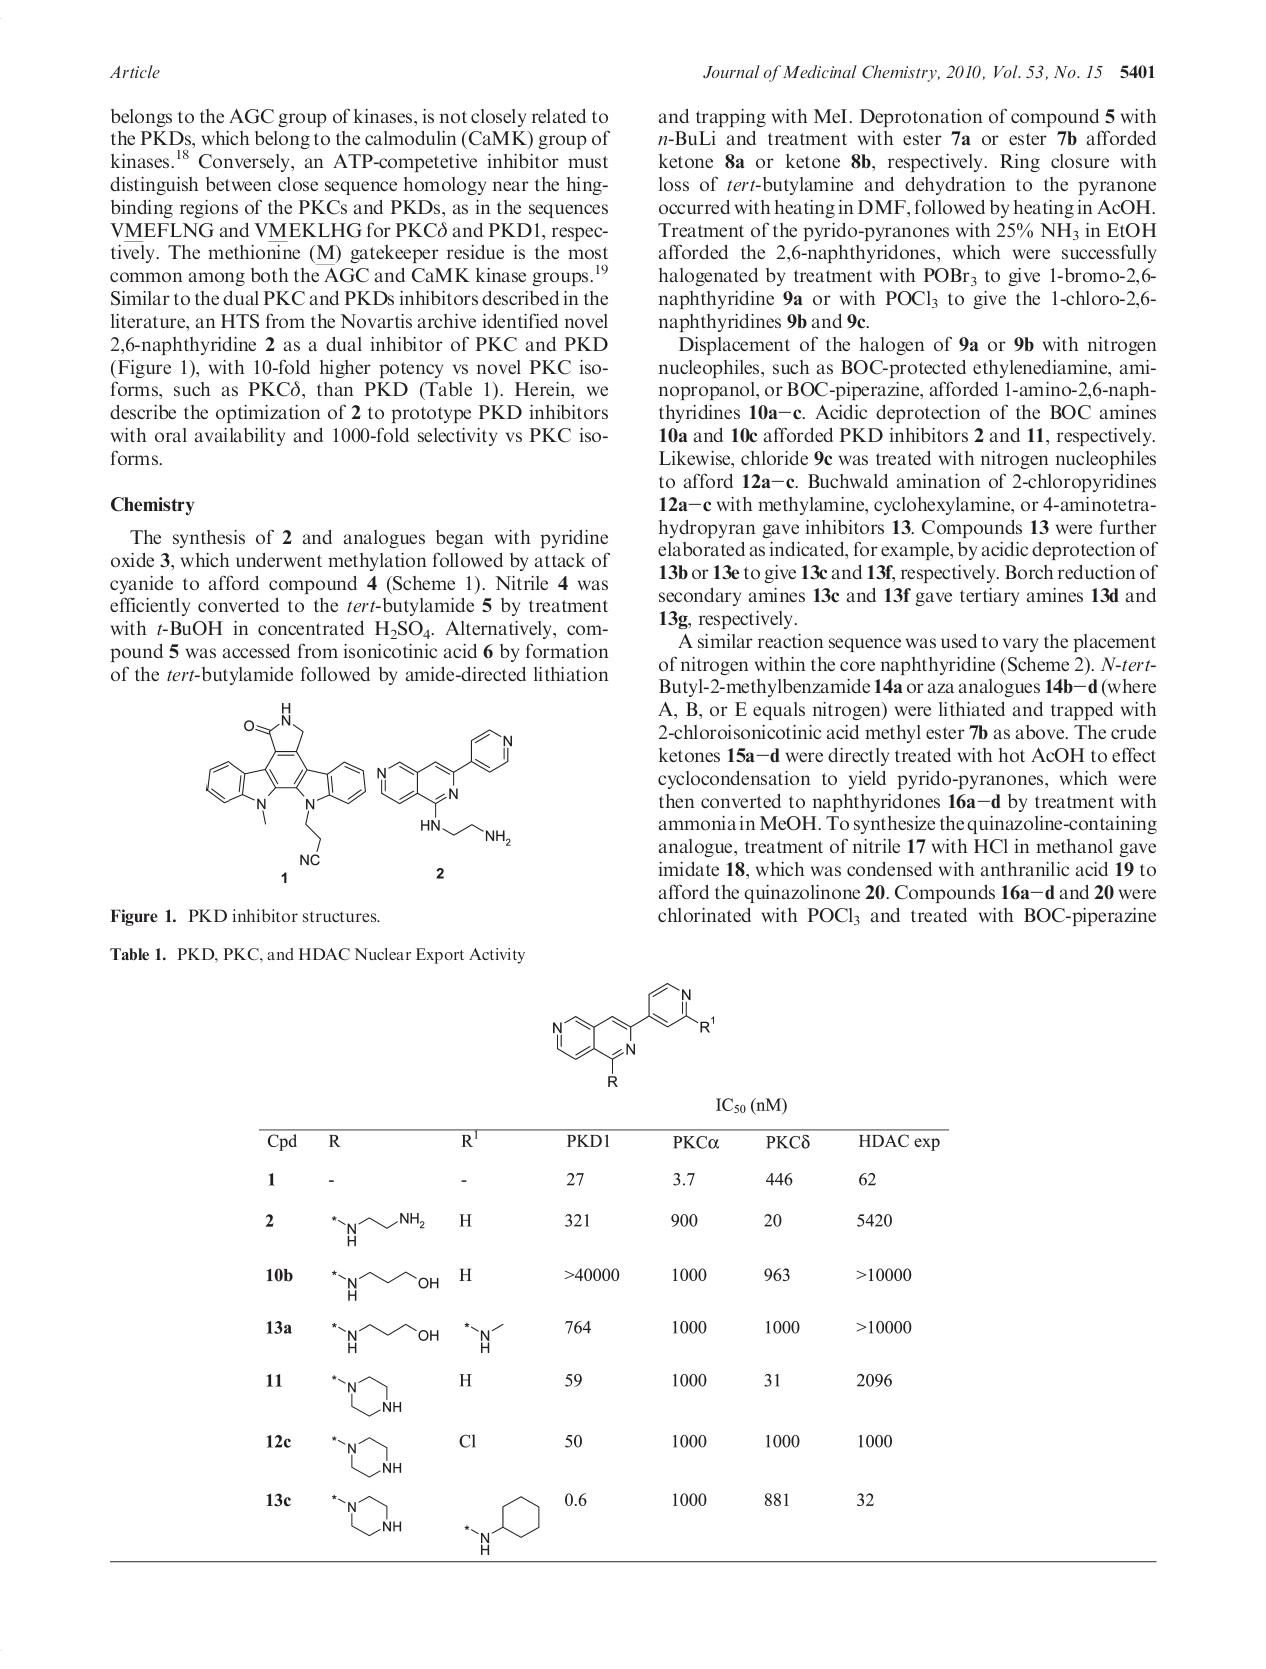exist_molecular: (201, 698, 519, 871), (547, 973, 719, 1091), (324, 1313, 444, 1362), (459, 1492, 547, 1559), (320, 1213, 431, 1258), (327, 1371, 412, 1428), (324, 1263, 445, 1302), (331, 1424, 406, 1485), (328, 1492, 404, 1543), (457, 1317, 519, 1370)
